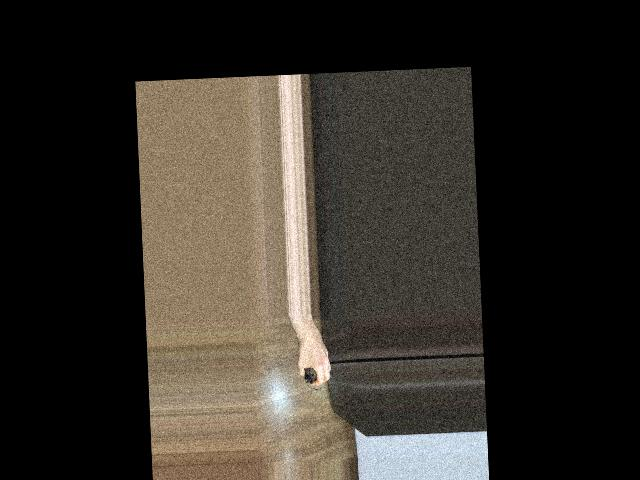beet: (303, 367, 321, 391)
